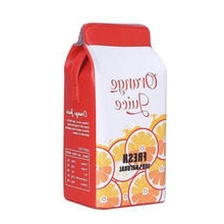carton: (58, 17, 173, 213)
